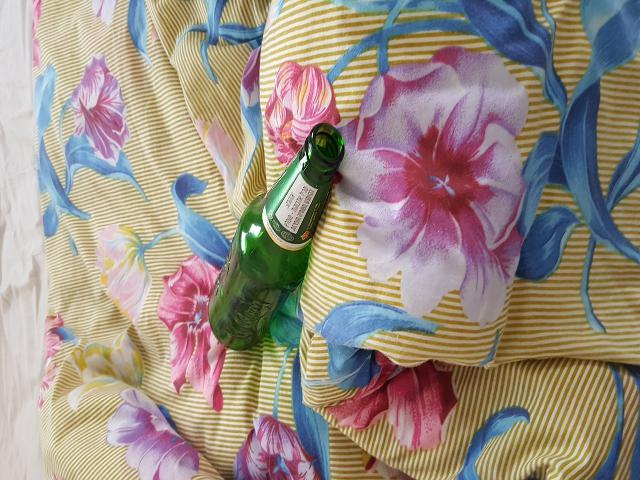beer: (209, 124, 346, 348)
